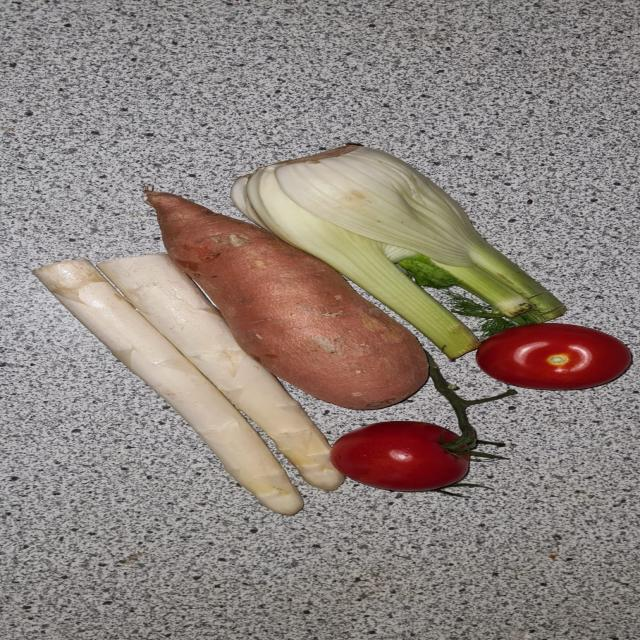Sweet Potato: (138, 185, 426, 409)
Tomato: (471, 322, 639, 393), (328, 418, 481, 494)
